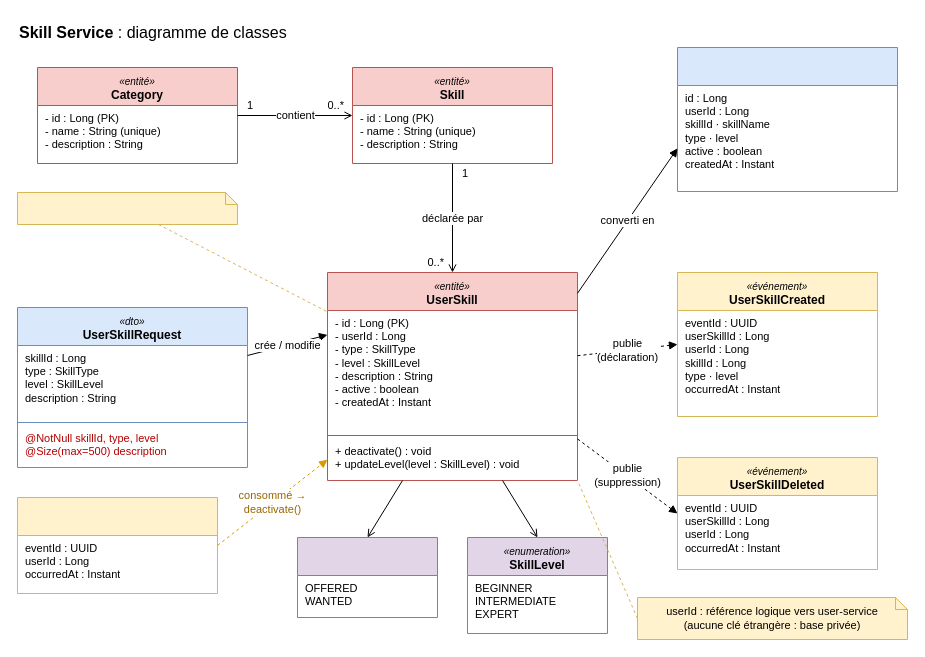
Some shapes in this 925 by 657 pixel diagram are drawn without their labels. The box of each missing label's shape, as (x1, y1, x2, y2) in pixels:
{unique (userId, skill, type)}: (16, 192, 238, 224)
«dto» UserSkillResponse: (676, 46, 898, 192)
«enumeration» SkillType: (296, 536, 438, 618)
«événement consommé» UserDeleted: (16, 496, 218, 594)
